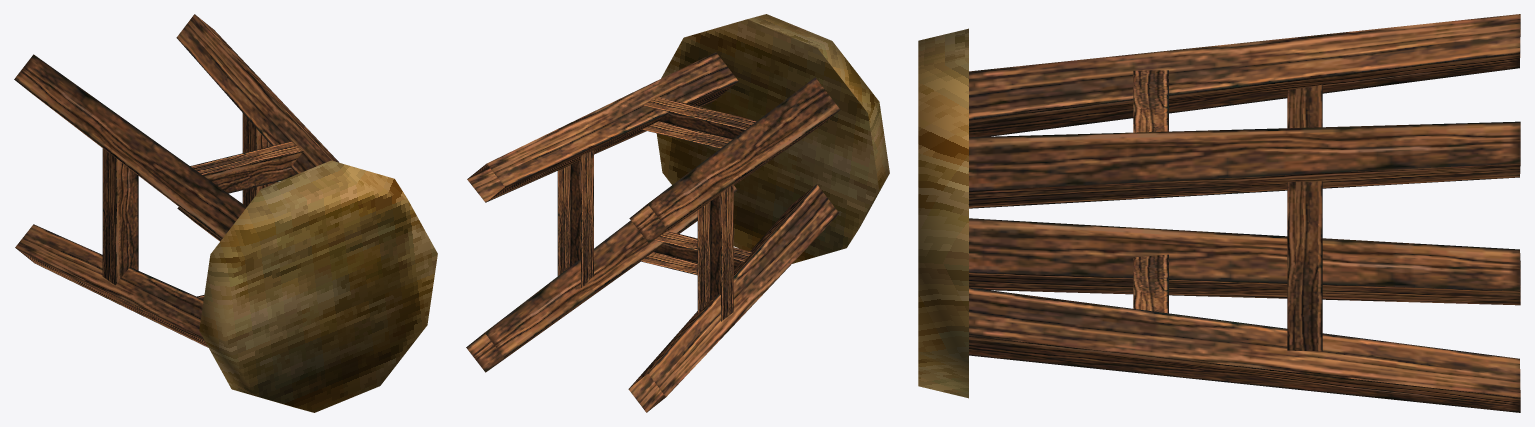
The model's file is INST_SWORDLIGHT_BARSTOOL.fbx.
3 views of the same model, side by side, from view 1: azimuth 30°, elevation 25°; view 2: azimuth 150°, elevation 25°; view 3: azimuth 270°, elevation 25° (orthographic). The views are drawn at different scales.
Parts seen in each view (by area): view 1: INST_SWORDLIGHT_BARSTOOL; view 2: INST_SWORDLIGHT_BARSTOOL; view 3: INST_SWORDLIGHT_BARSTOOL.
Boxes of the visible parts, x1,y1,x2,y2 form: INST_SWORDLIGHT_BARSTOOL: (14, 14, 437, 412); INST_SWORDLIGHT_BARSTOOL: (466, 14, 889, 412); INST_SWORDLIGHT_BARSTOOL: (918, 14, 1520, 412).
Size of the model in its own units: 4603 by 4603 by 7586.
Materials: 2 (2 with a texture image).
